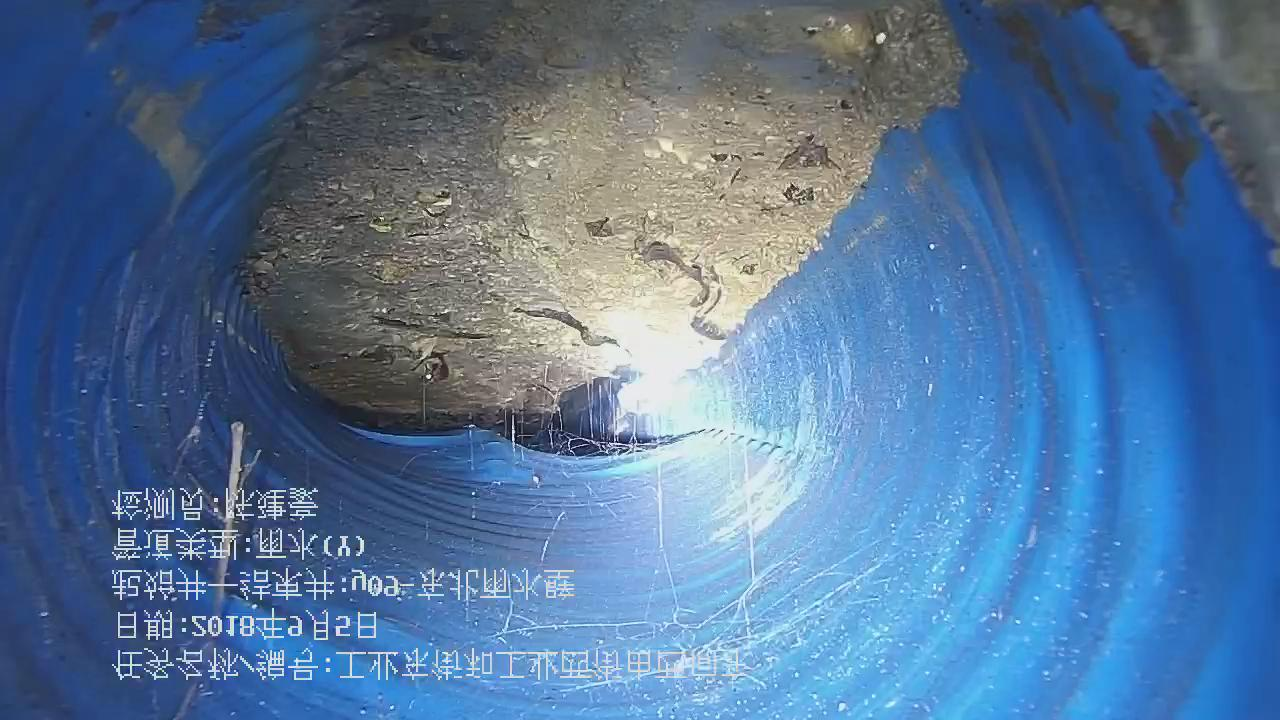BX: (332, 395, 832, 514)
CJ: (242, 1, 963, 426)
